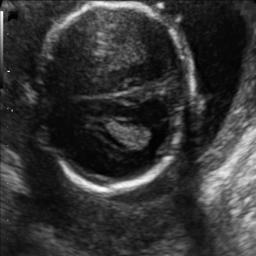normal: (30, 1, 198, 197)
